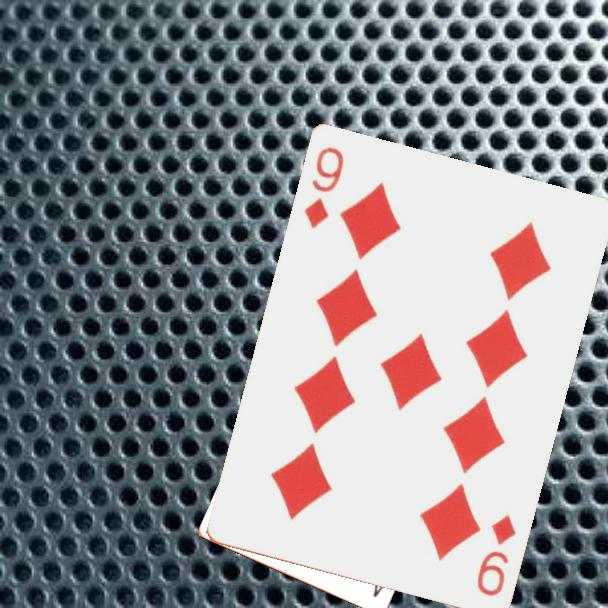d09: (474, 512, 520, 600), (301, 144, 347, 232)
